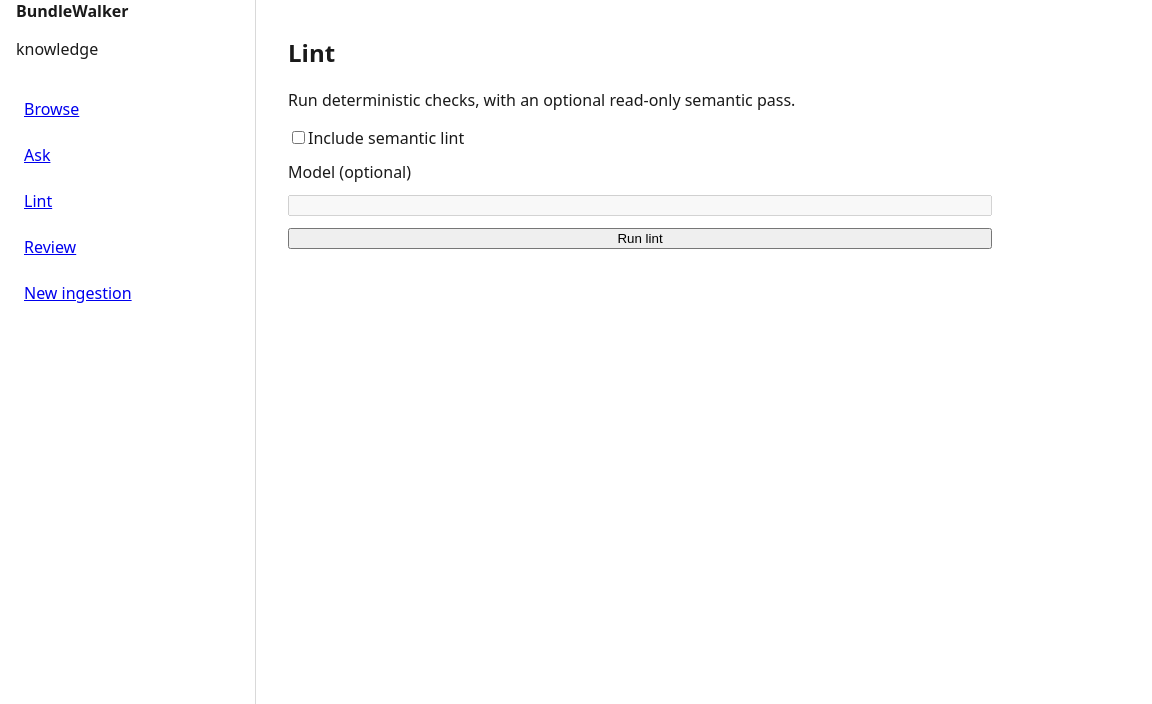
groups each origin by severity order and then by concept
Click the checkbox labelled "Include semantic lint" at (298, 137), box [292,131,305,144]
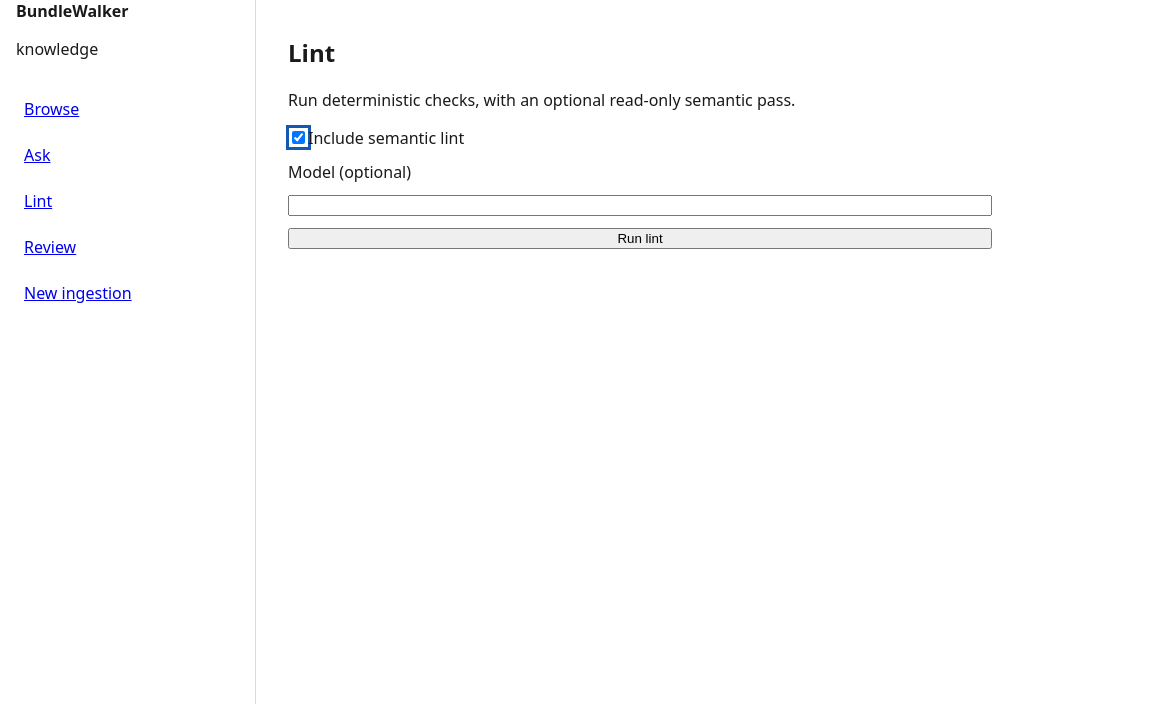
Click the button "Run lint" at (640, 238), box [288,228,992,249]
(page scrolled)
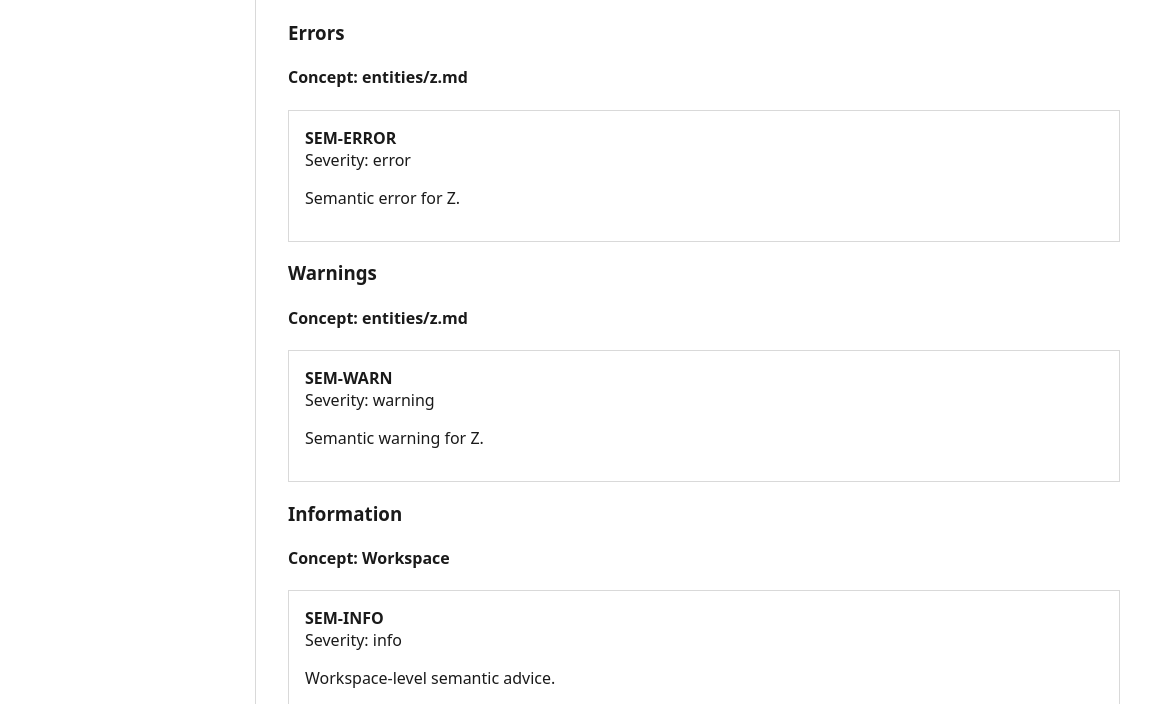
Check: the headings read "Concept: entities/z.md", "Concept: entities/z.md", "Concept: Workspace", in this order, box [288,66,468,88]; [288,307,468,329]; [288,547,450,569]
